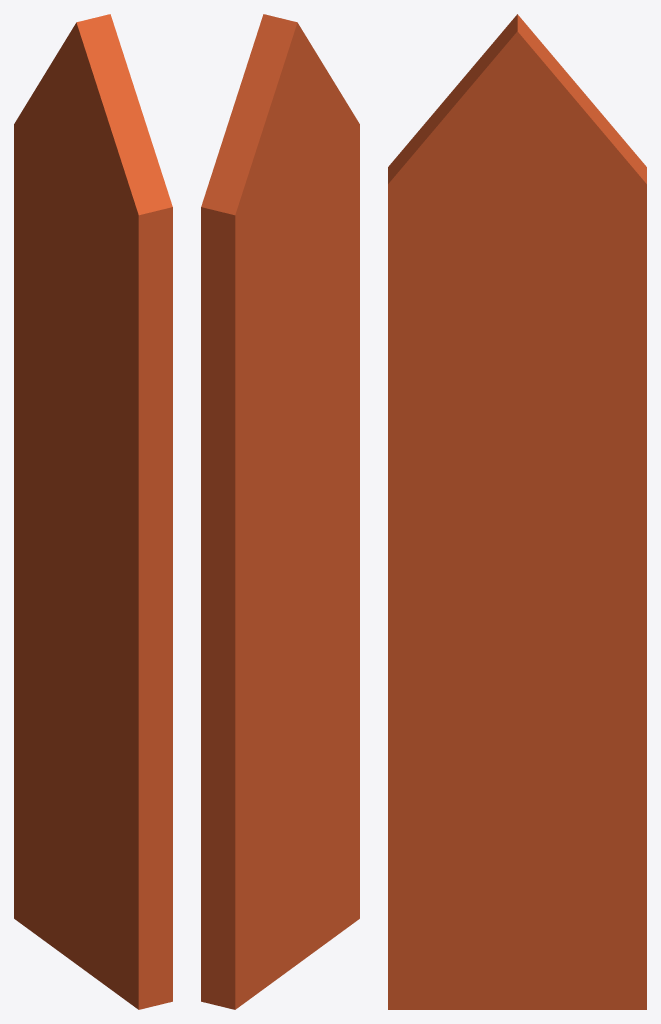
Rendered from PLOT2.fbx.
The picture shows the model from 3 angles, left to right: view 1: azimuth 30°, elevation 25°; view 2: azimuth 150°, elevation 25°; view 3: azimuth 270°, elevation 25°; orthographic projection. The views are drawn at different scales.
Parts seen in each view (by area): view 1: Cube.004; view 2: Cube.004; view 3: Cube.004.
Boxes of the visible parts, <box> form: Cube.004: <box>14,14,172,1009</box>; Cube.004: <box>201,14,359,1009</box>; Cube.004: <box>388,14,646,1009</box>.
Size of the model in its own units: 8.98 by 237 by 56.87.
